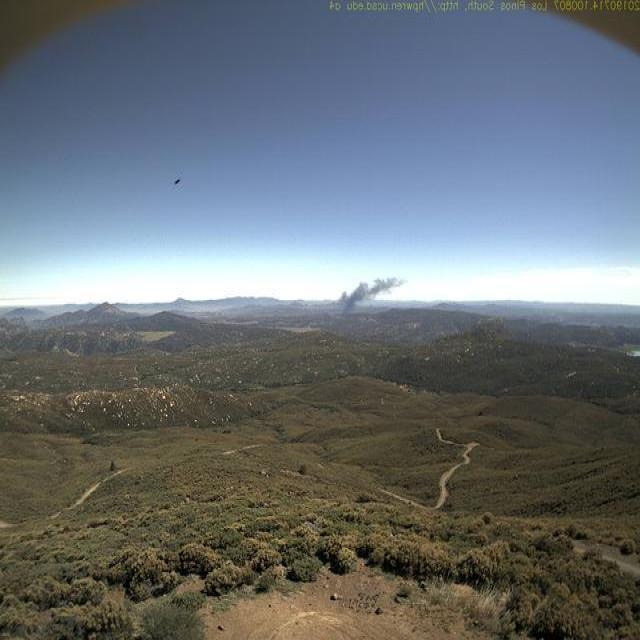Smoke: (333, 270, 409, 318)
